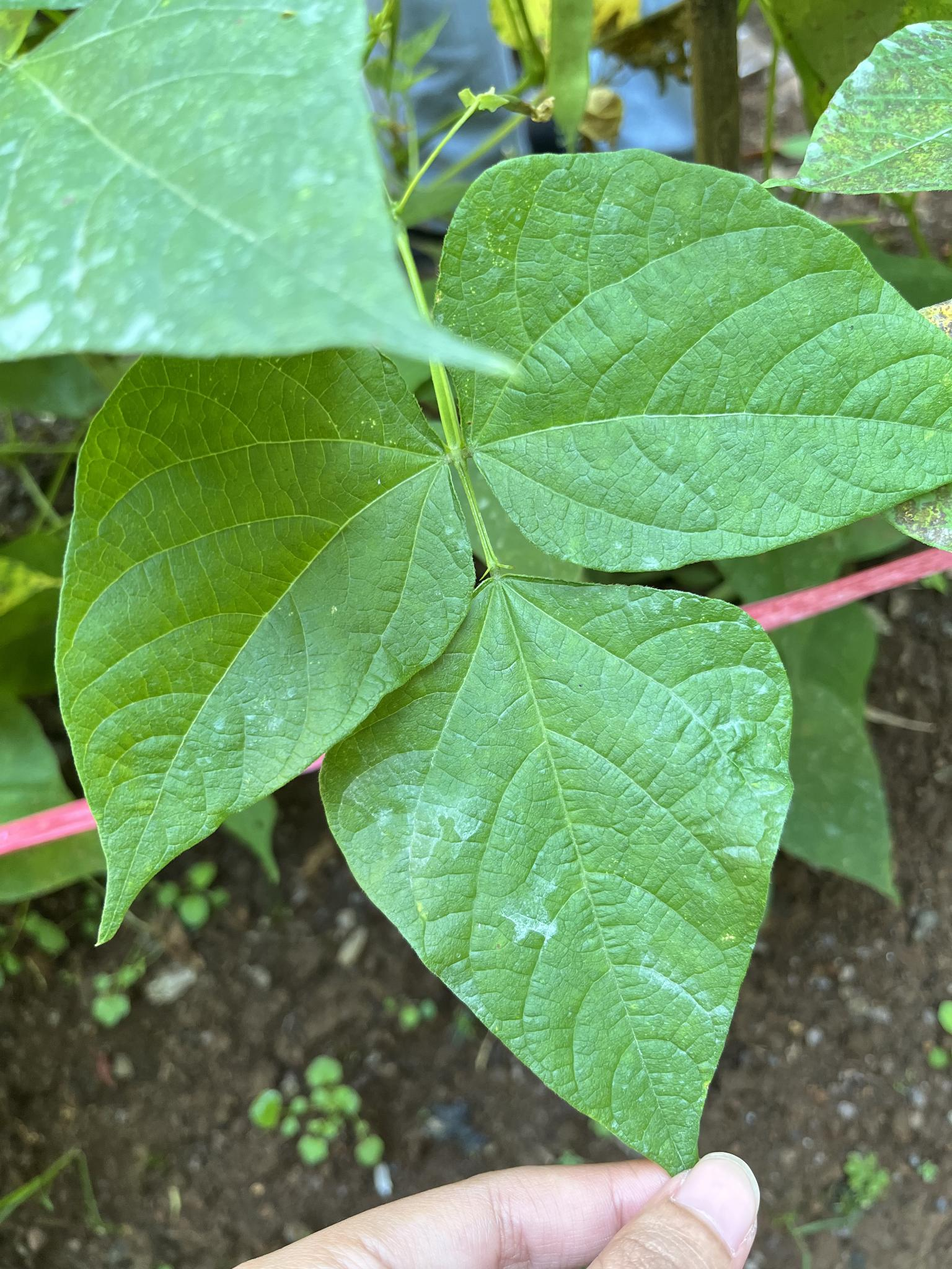embun tepung: (354, 756, 501, 887), (622, 935, 748, 1040)
